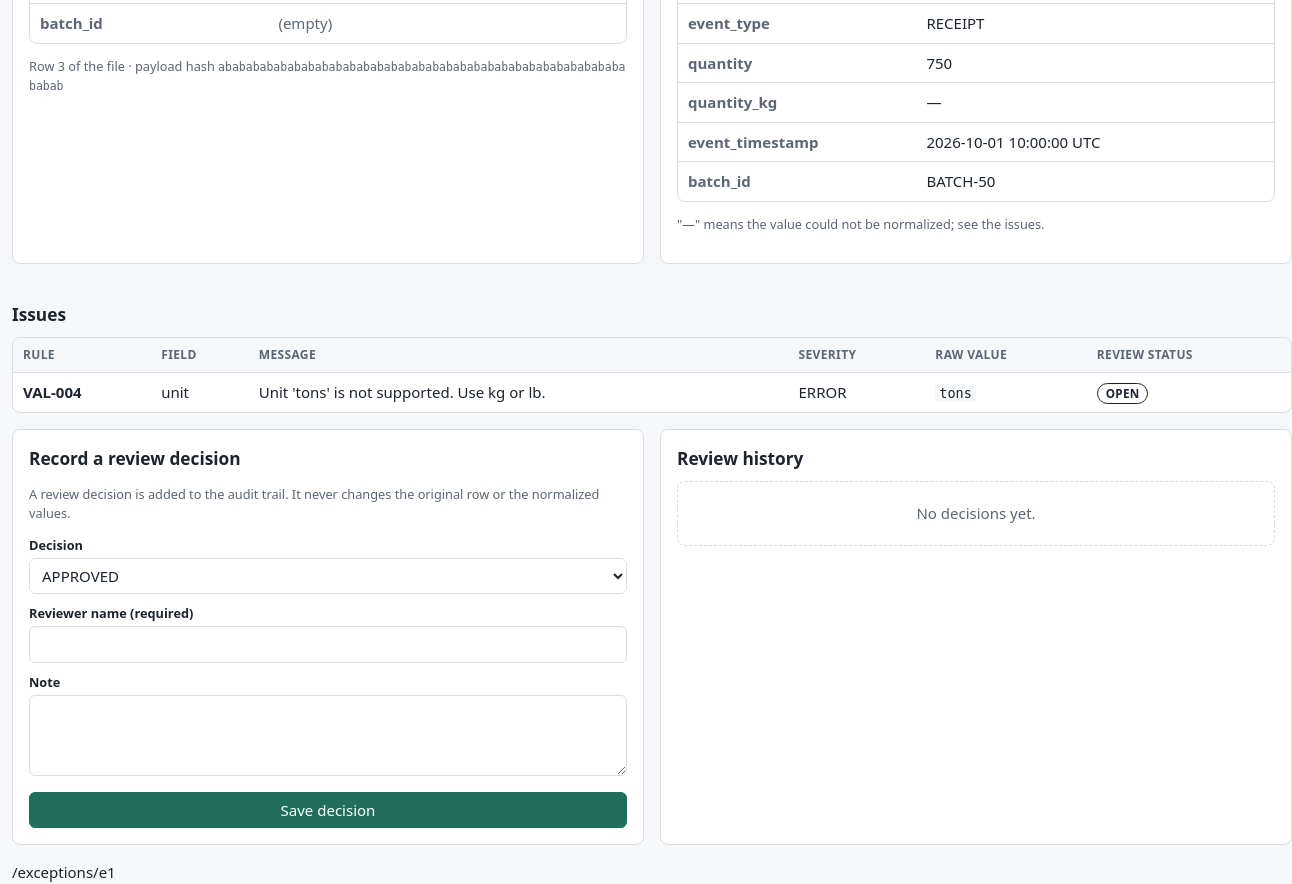
Test case: Exception detail › requires a reviewer name before sending
(page scrolled)
Click the button "Save decision" at (328, 810), box [29,792,627,828]
(page scrolled)
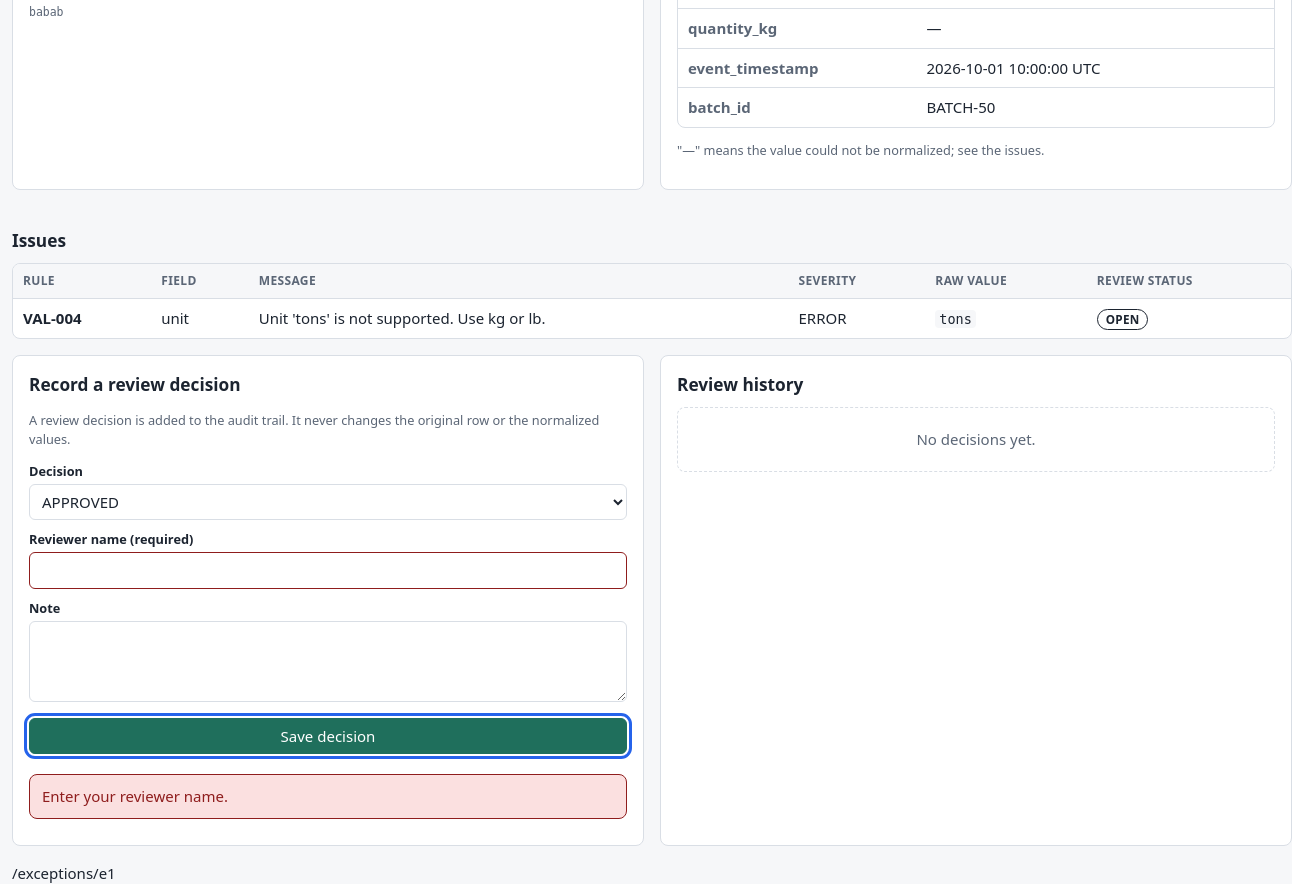
Now the message reads "Enter your reviewer name.", box [42,786,228,806]
